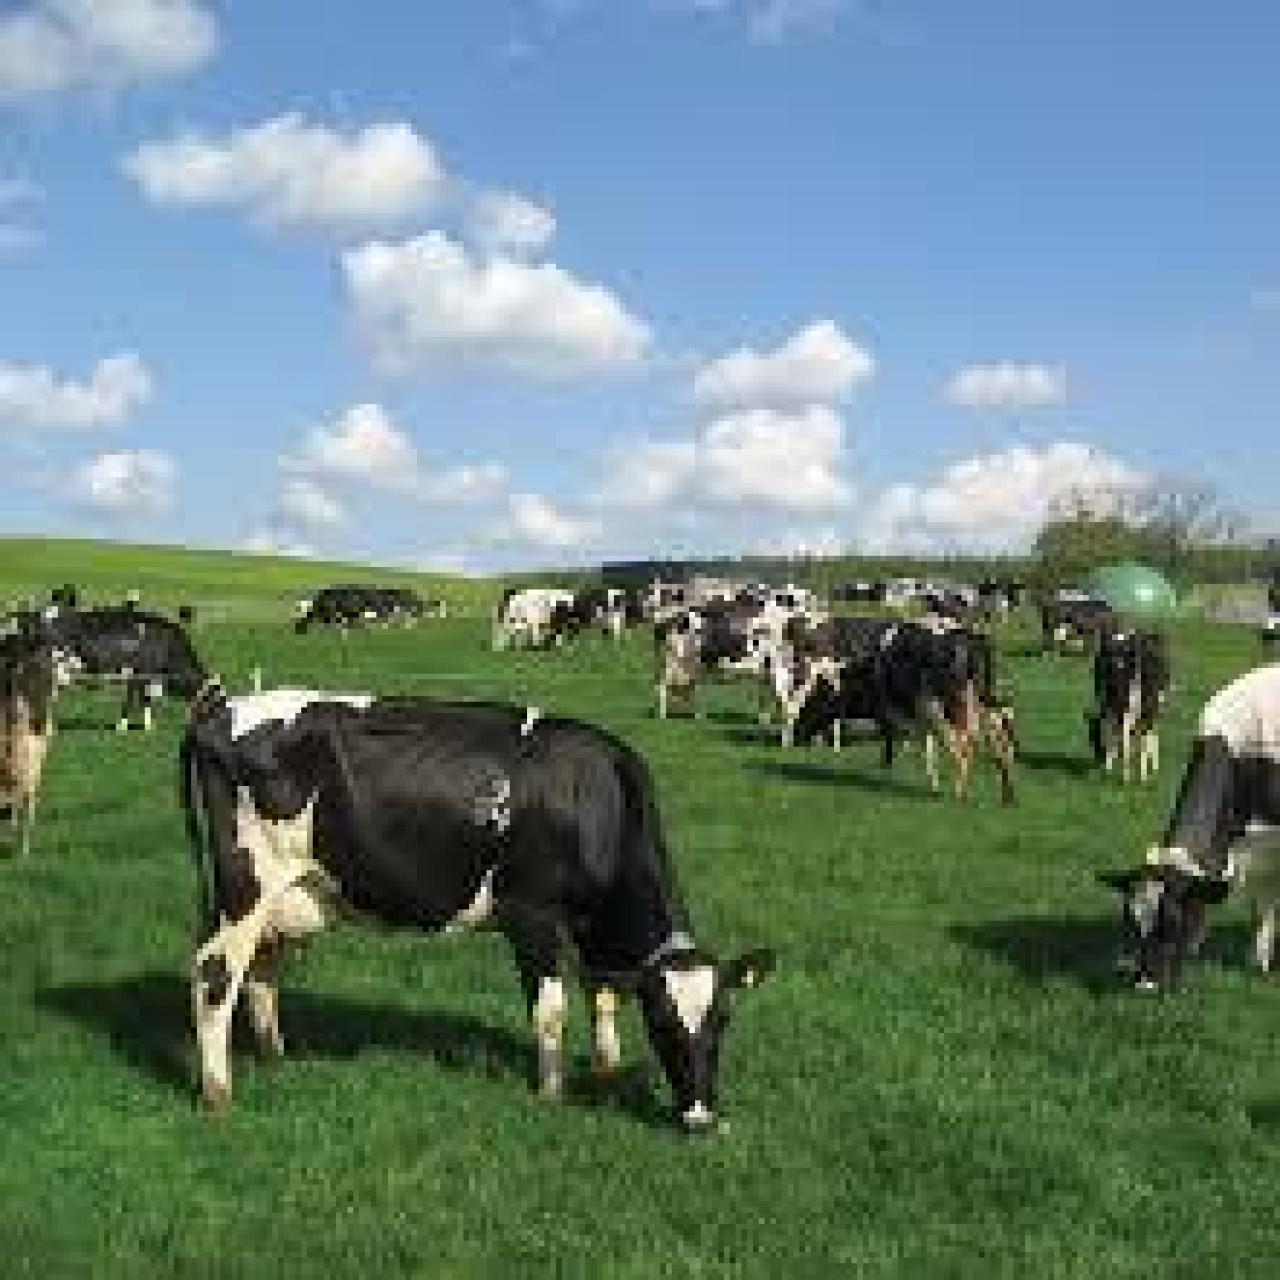cow: (177, 682, 784, 1137), (1089, 658, 1280, 994), (784, 620, 1028, 805), (644, 584, 846, 724), (20, 604, 240, 733), (0, 624, 57, 865), (1085, 628, 1167, 791), (286, 581, 402, 644), (484, 587, 583, 654), (1034, 590, 1132, 652)
